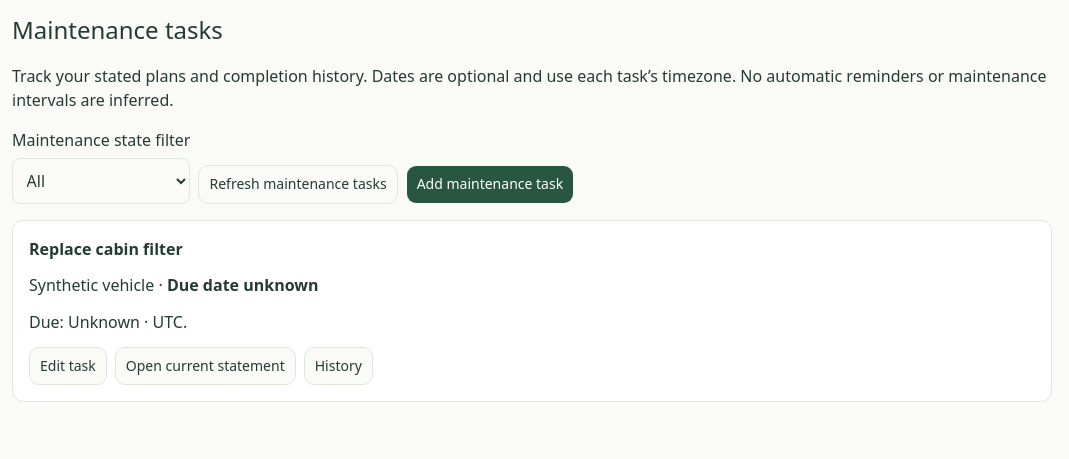
Test: refuses to edit a response belonging to a different task
This screenshot has width=1069, height=459.
Step 1. Click the button with aria-label "Edit Replace cabin filter" → (68, 366), box [29,347,107,385]
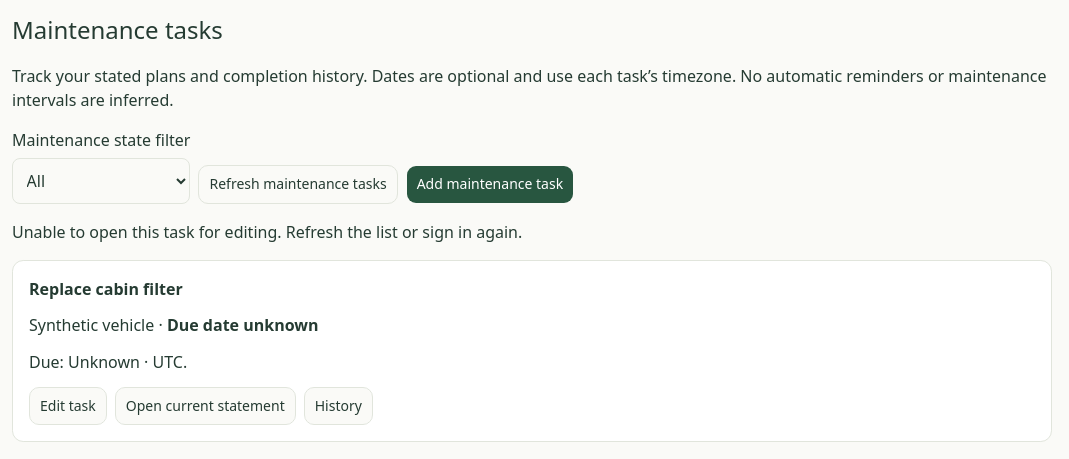
Now the text "Unable to open this task for editing. Refresh the list or sign in again." is shown, box [12,221,522,243]
